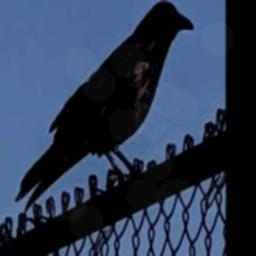Crow: (15, 0, 195, 214)
